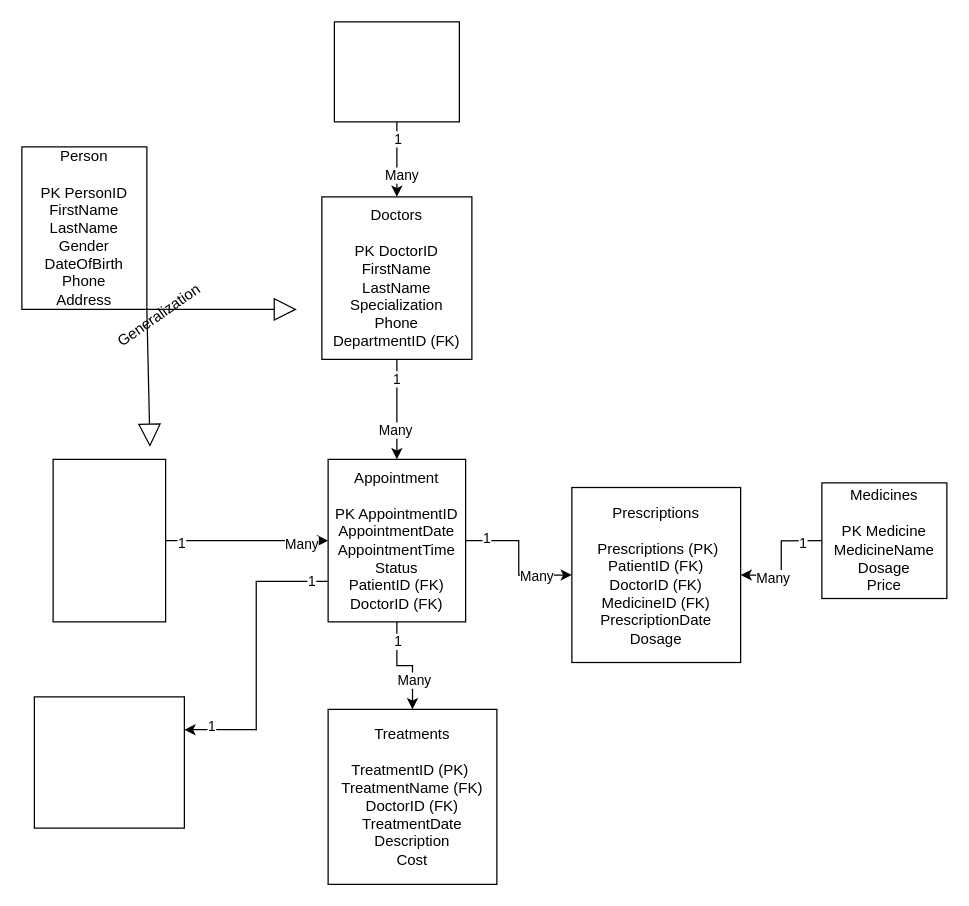
The diagram is 969 pixels wide and 906 high, and some of its shapes have lost their labels. Here are the shapes that lost their labels. From the top down, the centre of each, then its label:
At pixel 396 71: "Departments PK DepartmentID DepartmentName Location".
At pixel 109 540: "Patients PK PatientID FirstName DateofBirth Gender Phone Address".
At pixel 108 762: "Payments PaymentID (PK) Patient (FK) PaymentDate Amount PaymentMethod".
